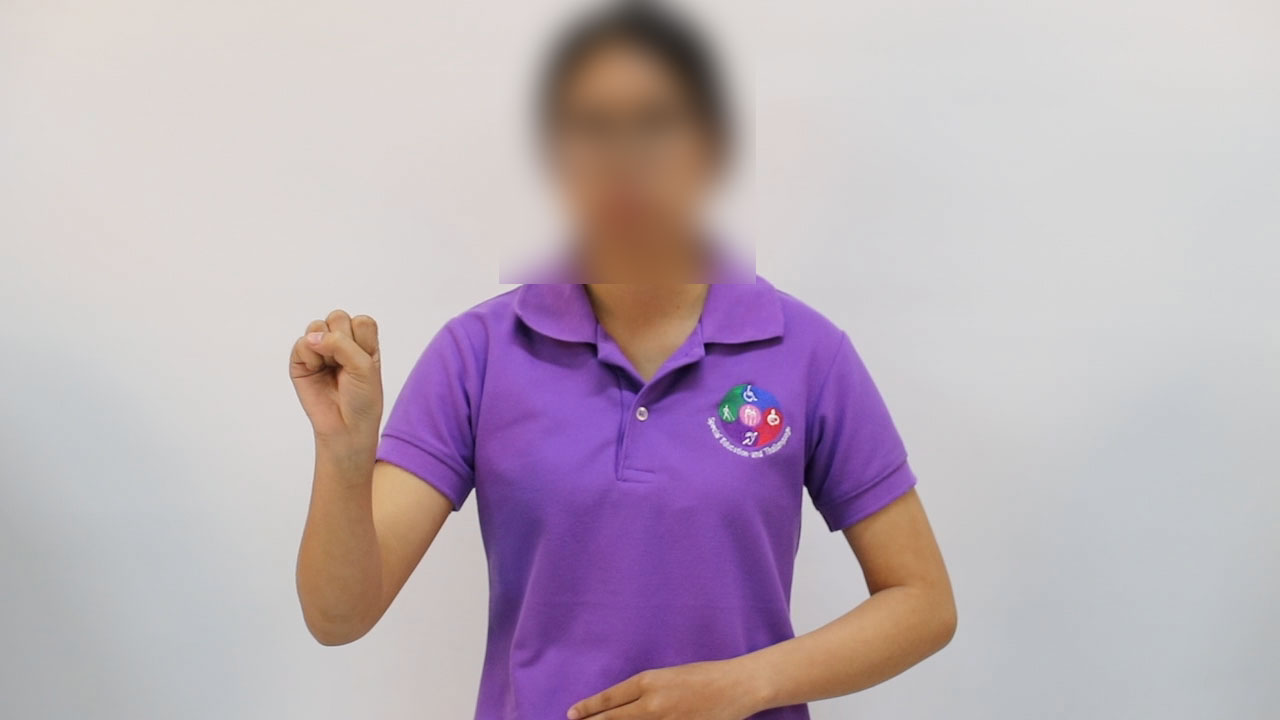sor: (268, 291, 403, 454)
